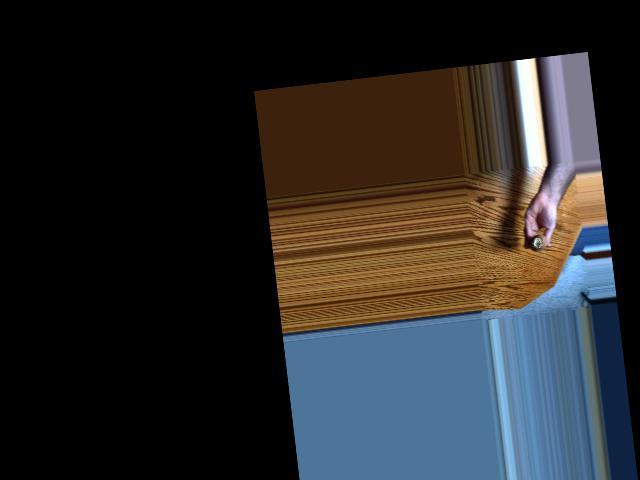sweet_potato: (531, 233, 550, 256)
